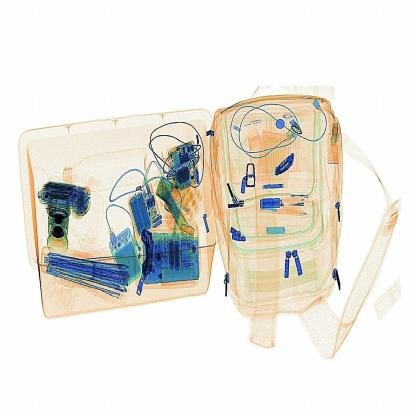knife: (270, 148, 302, 187)
